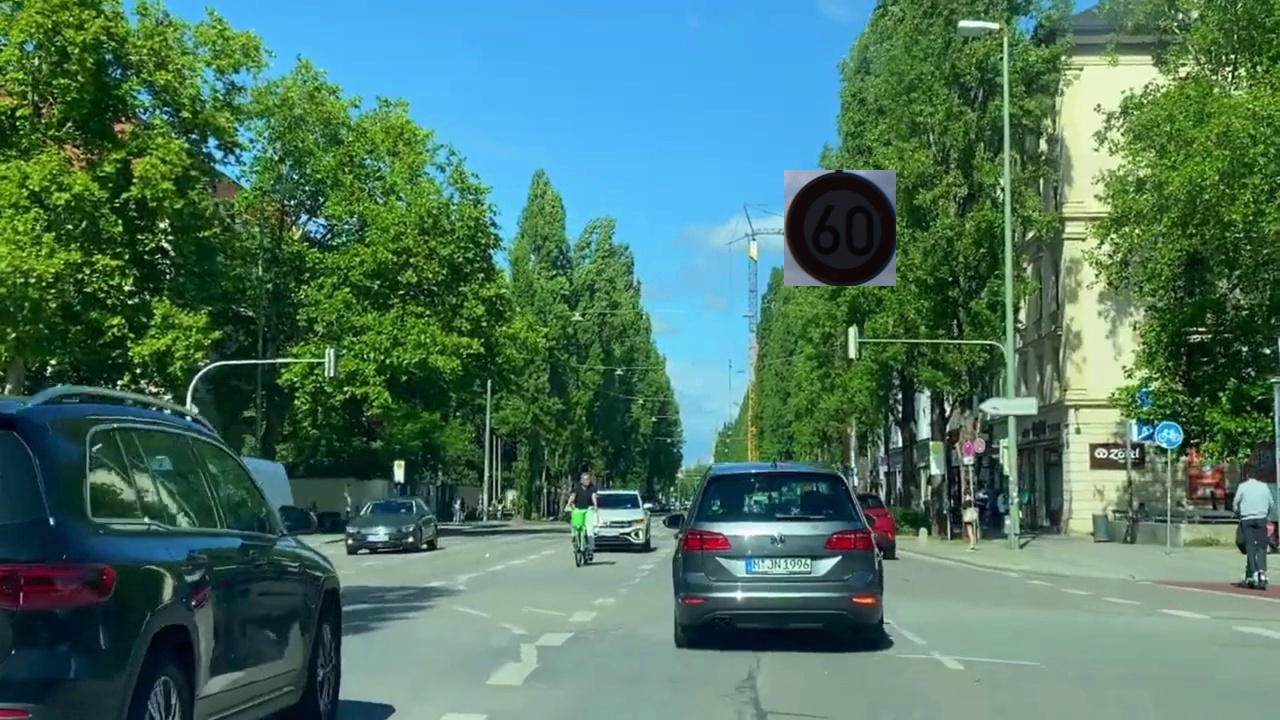Speed 60: (784, 170, 896, 286)
